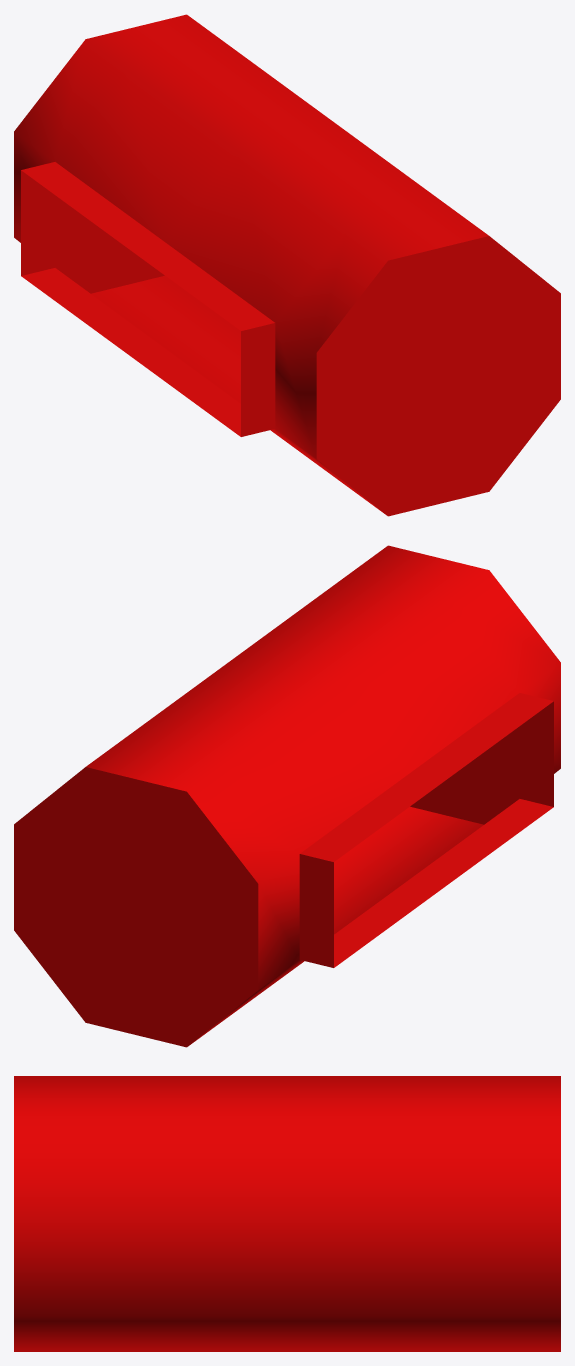
Rendered from Speaker.fbx.
The picture shows the model from 3 angles, top to bottom: view 1: azimuth 30°, elevation 25°; view 2: azimuth 150°, elevation 25°; view 3: azimuth 270°, elevation 25°; orthographic projection. The views are drawn at different scales.
Visible parts, largest first — view 1: bocina_low; view 2: bocina_low; view 3: bocina_low.
Boxes of the visible parts, left/top/right/bottom form: bocina_low: left=14, top=14, right=560, bottom=516; bocina_low: left=14, top=545, right=560, bottom=1047; bocina_low: left=14, top=1076, right=560, bottom=1351.
Size of the model in its own units: 2.11 by 1.85 by 3.96.
